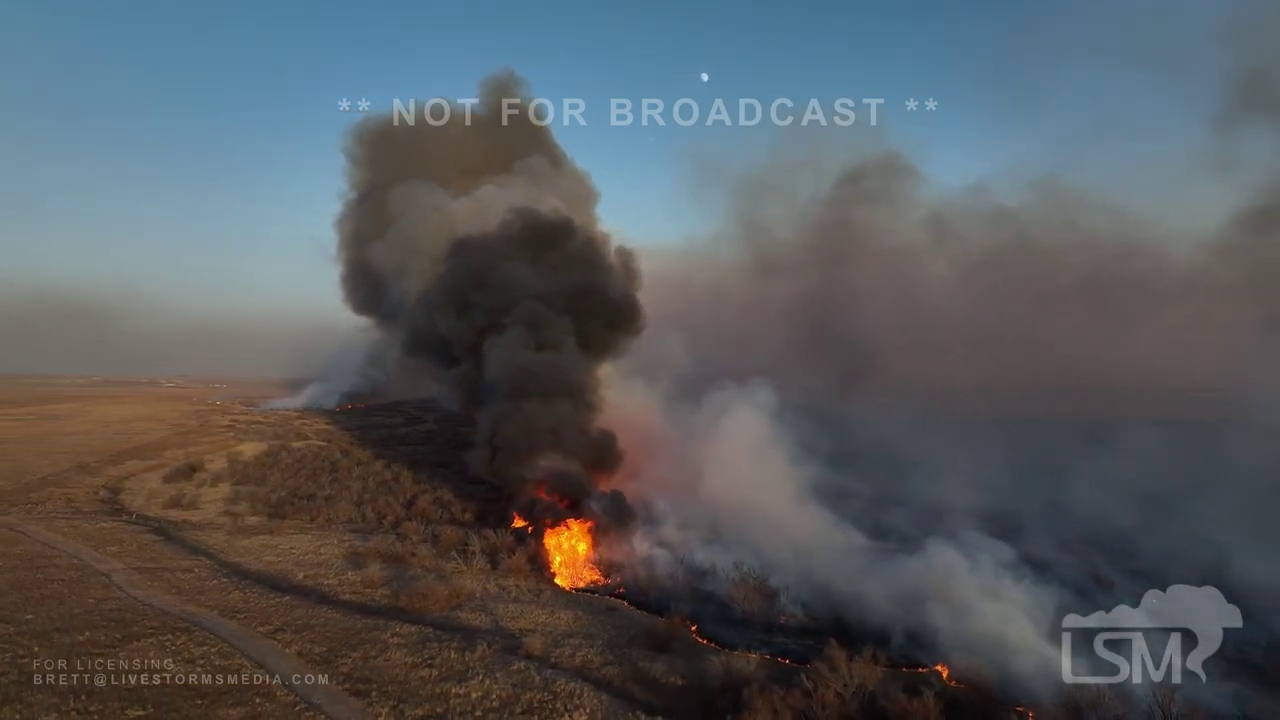forest_fire: (543, 519, 604, 589), (931, 666, 954, 683), (512, 515, 532, 529)
